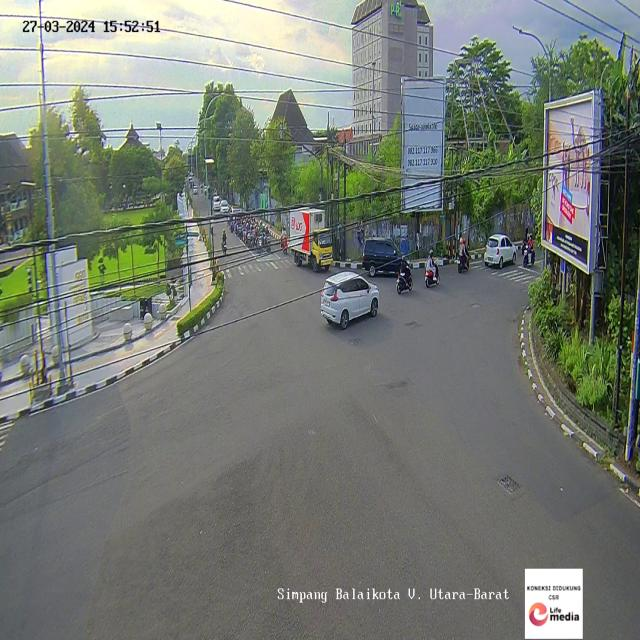car: (319, 271, 381, 332), (361, 238, 404, 276), (483, 235, 516, 269)
motorcycle: (395, 260, 415, 295), (423, 258, 438, 288), (458, 234, 470, 271), (522, 234, 535, 268), (280, 224, 288, 256), (220, 230, 229, 254)
truck: (288, 209, 332, 270)
